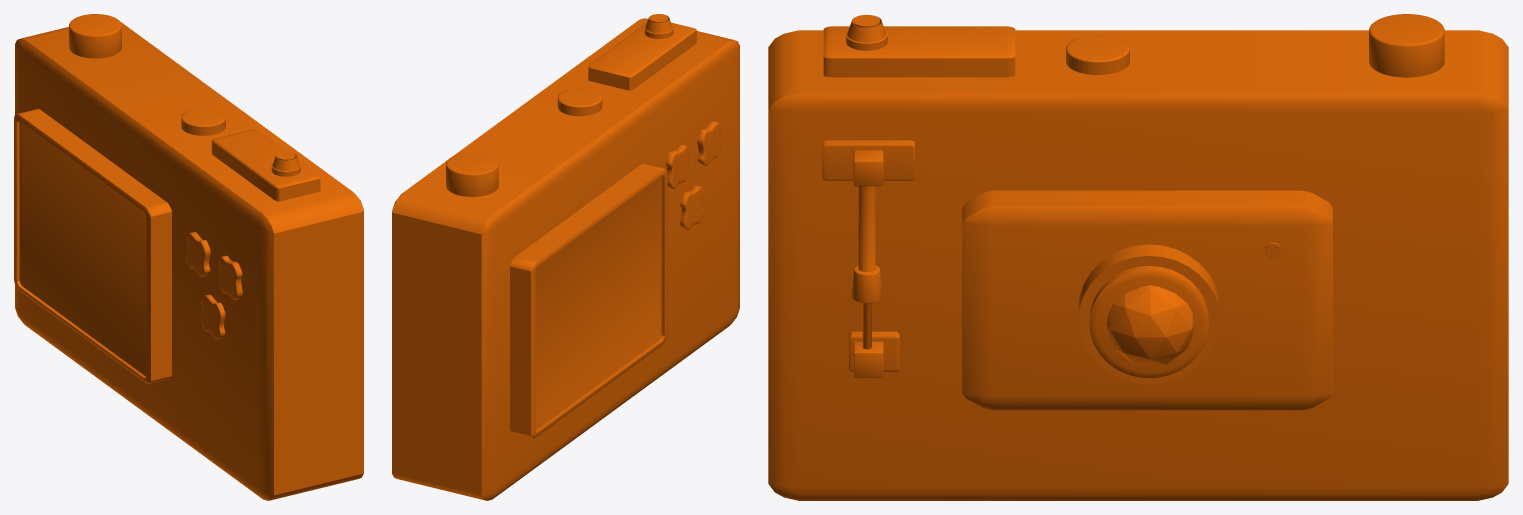
Rendered from camera_low.fbx.
3 renders of one model, left to right at view 1: azimuth 30°, elevation 25°; view 2: azimuth 150°, elevation 25°; view 3: azimuth 270°, elevation 25°, orthographic. The views are drawn at different scales.
Parts seen in each view (by area): view 1: fig_low, monitor_low, top_low, top_btn_low, top_small_btn_low, btn_2_low, btn_3_low, btn_1_low, top_btn_push_low; view 2: fig_low, monitor_low, top_low, top_btn_low, top_small_btn_low, btn_3_low, btn_1_low, btn_2_low, top_btn_push_low; view 3: fig_low, fig_small_low, cam_low, top_low, crystal_low, top_btn_low, stick_low, tool_rect_low, top_small_btn_low, top_btn_push_low, tool_cube_low, tool_cube_2_low (+1 smaller).
Boxes of the visible parts, x1=… form: fig_low: x1=15, y1=22, x2=363, y2=500; monitor_low: x1=14, y1=109, x2=171, y2=383; top_low: x1=211, y1=129, x2=320, y2=201; top_btn_low: x1=69, y1=14, x2=121, y2=58; top_small_btn_low: x1=181, y1=107, x2=225, y2=135; btn_2_low: x1=185, y1=232, x2=210, y2=276; btn_3_low: x1=218, y1=255, x2=242, y2=299; btn_1_low: x1=201, y1=294, x2=225, y2=339; top_btn_push_low: x1=271, y1=151, x2=300, y2=176; fig_low: x1=392, y1=18, x2=739, y2=500; monitor_low: x1=510, y1=163, x2=667, y2=437; top_low: x1=588, y1=22, x2=696, y2=90; top_btn_low: x1=446, y1=152, x2=498, y2=196; top_small_btn_low: x1=557, y1=88, x2=602, y2=116; btn_3_low: x1=697, y1=121, x2=721, y2=165; btn_1_low: x1=680, y1=185, x2=704, y2=229; btn_2_low: x1=665, y1=145, x2=689, y2=188; top_btn_push_low: x1=644, y1=14, x2=673, y2=38; fig_low: x1=768, y1=30, x2=1508, y2=500; fig_small_low: x1=962, y1=190, x2=1332, y2=410; cam_low: x1=1078, y1=244, x2=1220, y2=384; top_low: x1=823, y1=26, x2=1015, y2=77; crystal_low: x1=1106, y1=285, x2=1194, y2=365; top_btn_low: x1=1369, y1=14, x2=1444, y2=77; stick_low: x1=851, y1=186, x2=882, y2=349; tool_rect_low: x1=822, y1=140, x2=914, y2=180; top_small_btn_low: x1=1066, y1=35, x2=1129, y2=74; top_btn_push_low: x1=846, y1=15, x2=887, y2=50; tool_cube_low: x1=853, y1=150, x2=883, y2=186; tool_cube_2_low: x1=849, y1=331, x2=899, y2=371.
Bounding box in the file's own units: 222 × 358 × 533.
